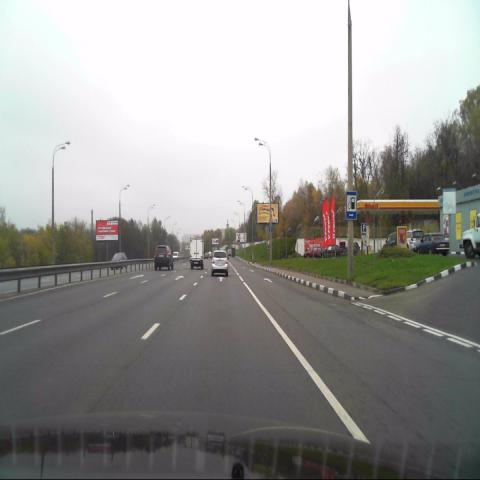7_3: (346, 192, 358, 220)
